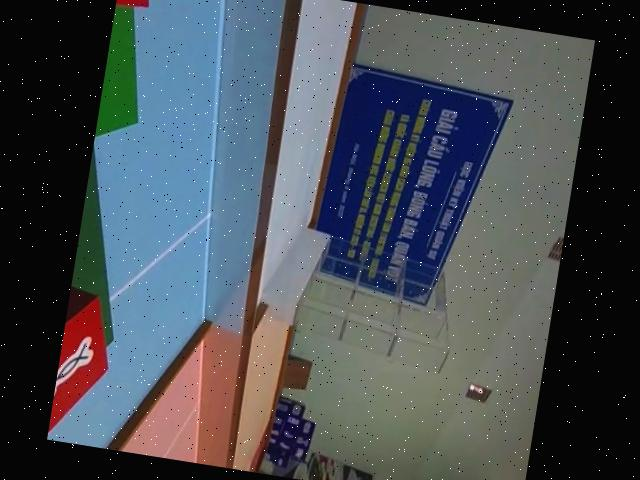R2 Real: (46, 282, 121, 448)
